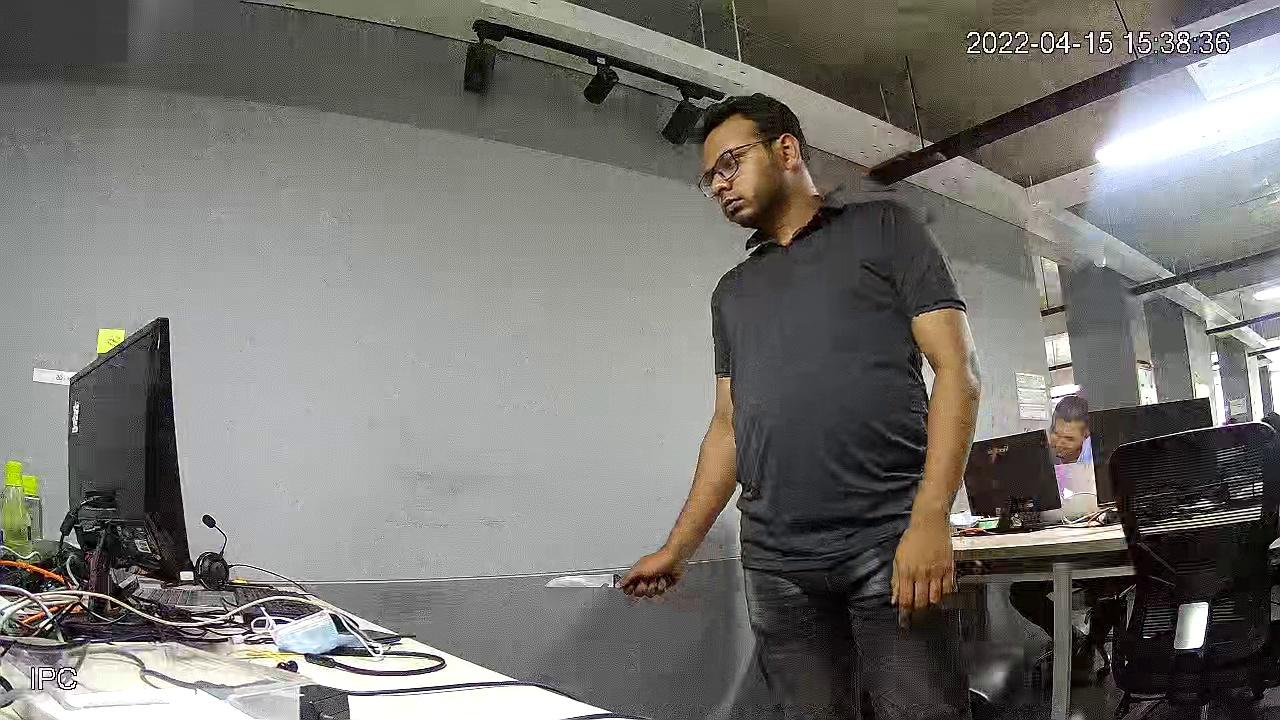knives: (544, 562, 645, 608)
